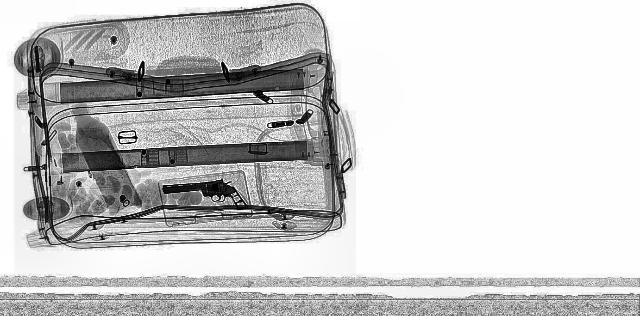Gun: (157, 178, 256, 216)
